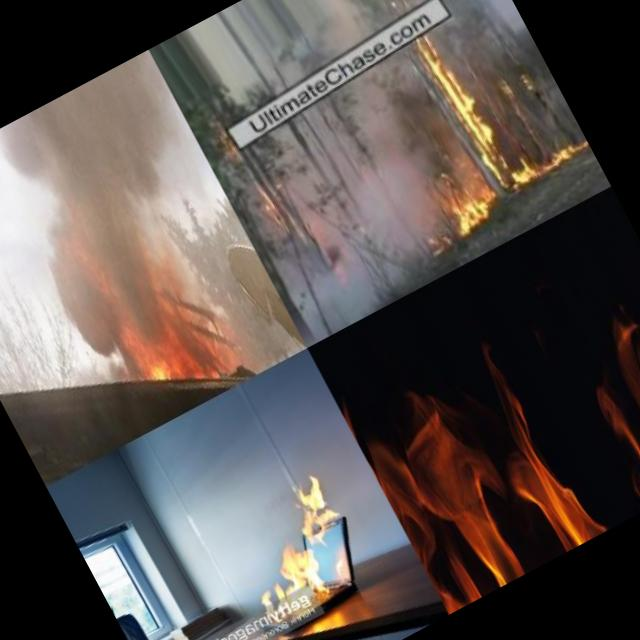fire: (309, 189, 640, 613), (216, 478, 372, 634), (411, 31, 512, 182), (115, 308, 232, 414), (506, 124, 590, 188), (438, 168, 499, 238)
smoke: (0, 48, 267, 368), (210, 76, 477, 348)
